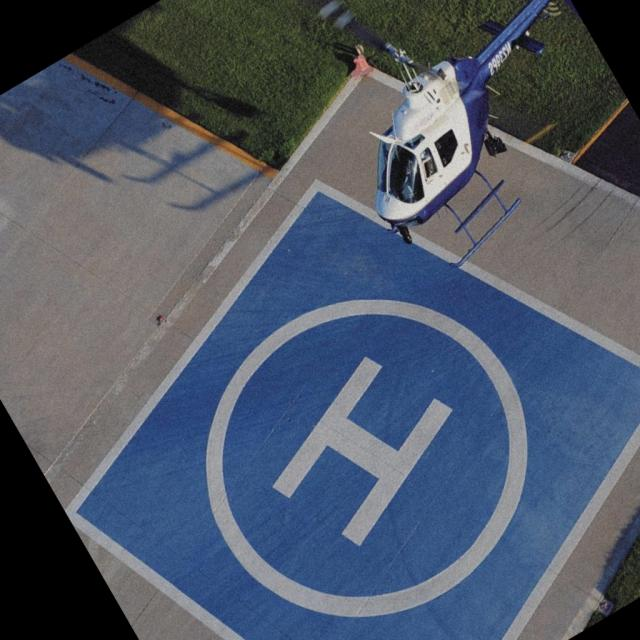helipad: (198, 293, 533, 623)
